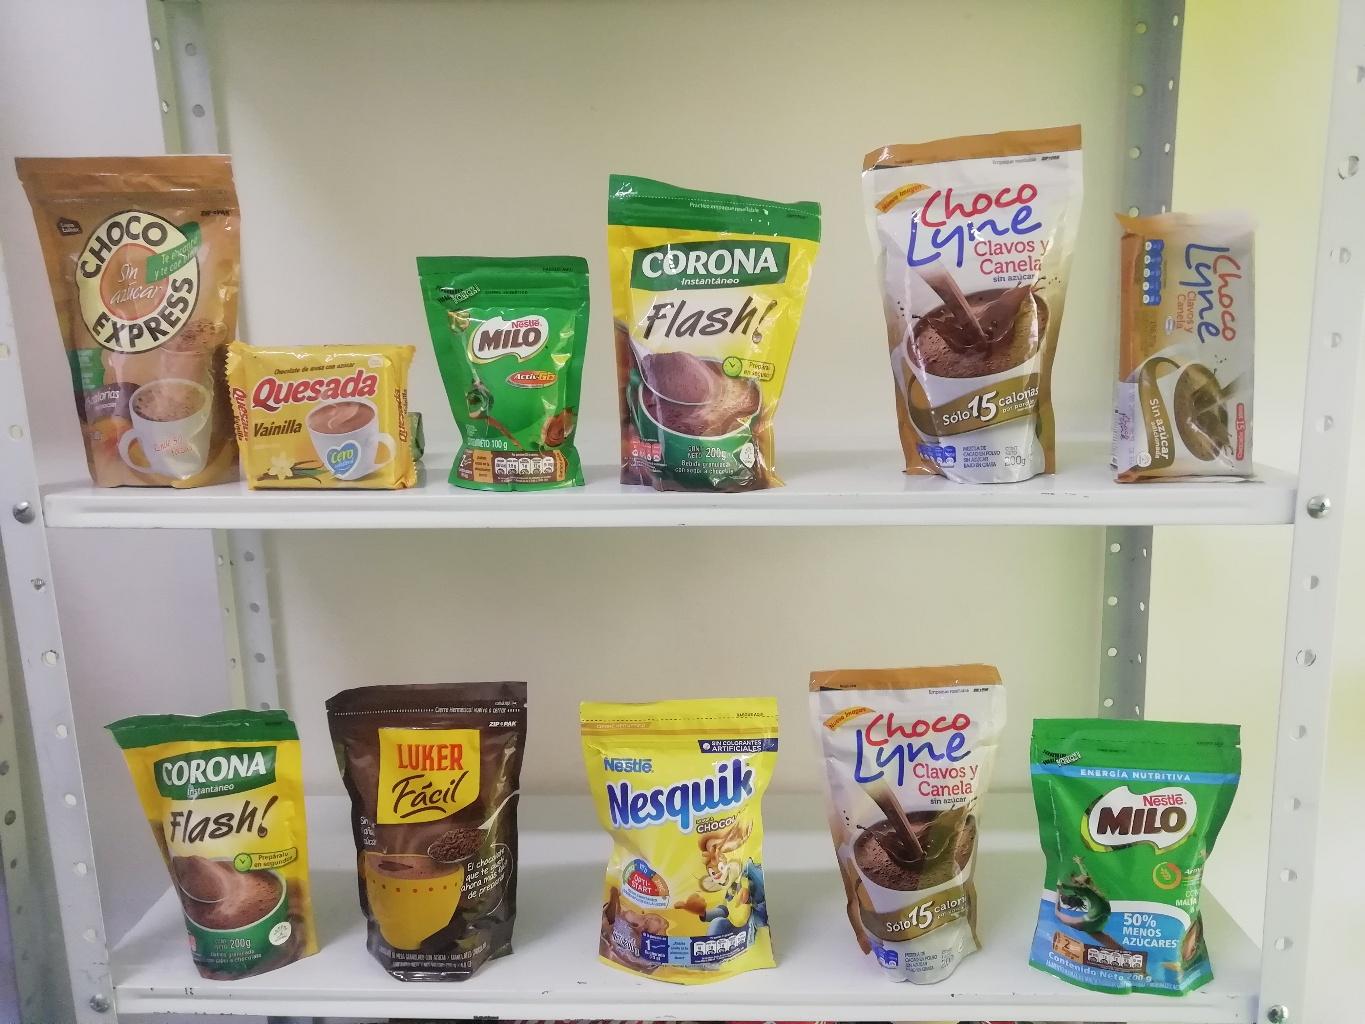COL0170203DYP10000: (413, 250, 588, 493)
COL0170205DYP20000: (1028, 713, 1238, 997)
COL0170303DYP20000: (579, 696, 781, 986)
